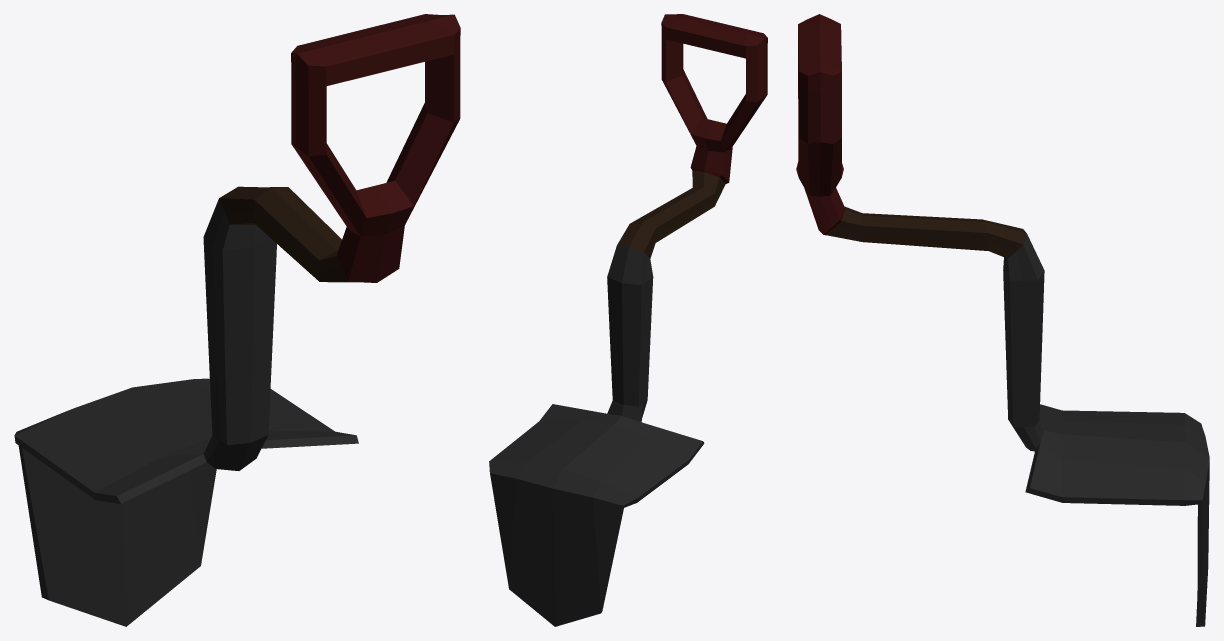
Rendered from Shovel_Stairs.obj.
3 renders of one model, left to right at view 1: azimuth 30°, elevation 25°; view 2: azimuth 150°, elevation 25°; view 3: azimuth 270°, elevation 25°, orthographic. The views are drawn at different scales.
Parts seen in each view (by area): view 1: Shovel; view 2: Shovel; view 3: Shovel.
Part boxes in pixels (x1,y1,x2,y2): Shovel: (14, 14, 460, 626); Shovel: (489, 14, 767, 626); Shovel: (796, 14, 1209, 626).
Size of the model in its own units: 0.8046 by 2.48 by 1.59.
